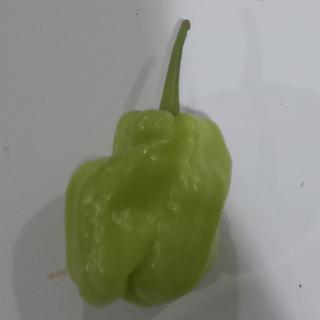Grade-A: (63, 101, 234, 313)
